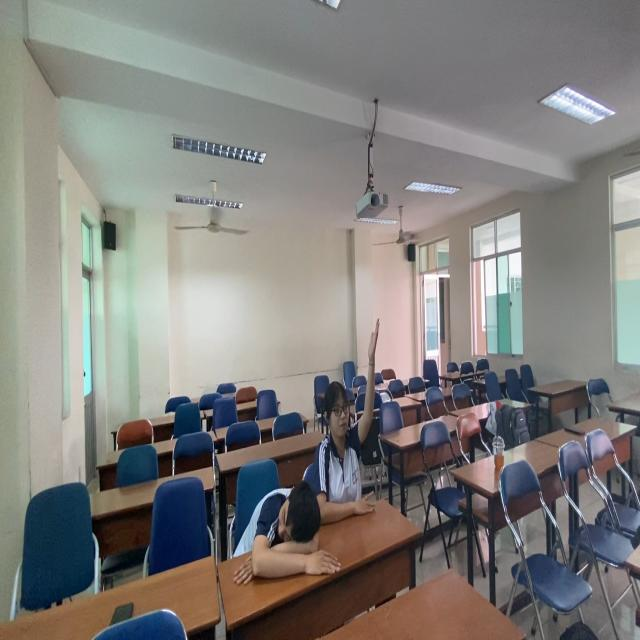raise_hand: (319, 313, 390, 519)
sleep: (232, 481, 338, 590)
